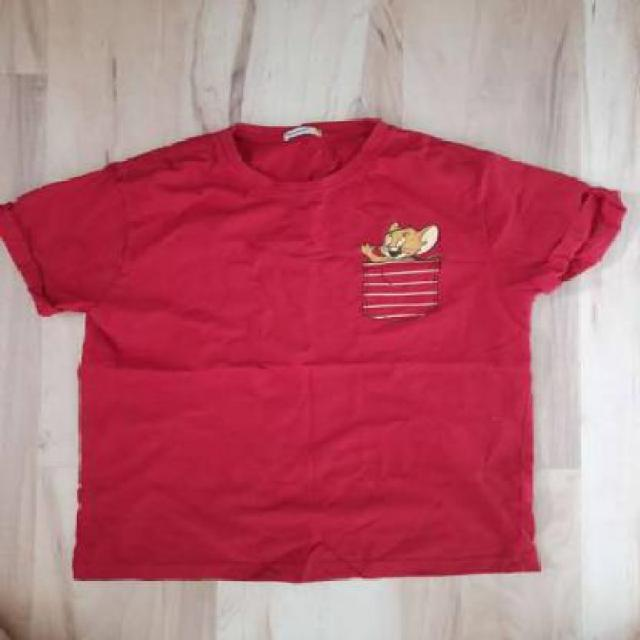shirt: (0, 117, 638, 582)
